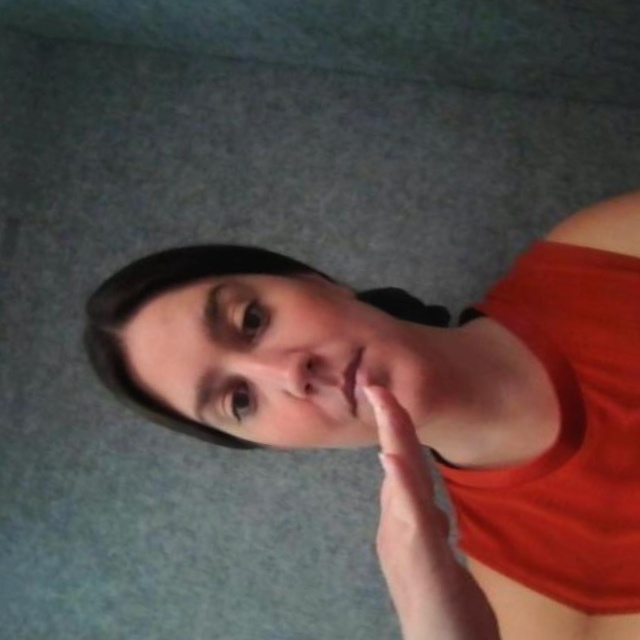Paper: (321, 290, 640, 640)
